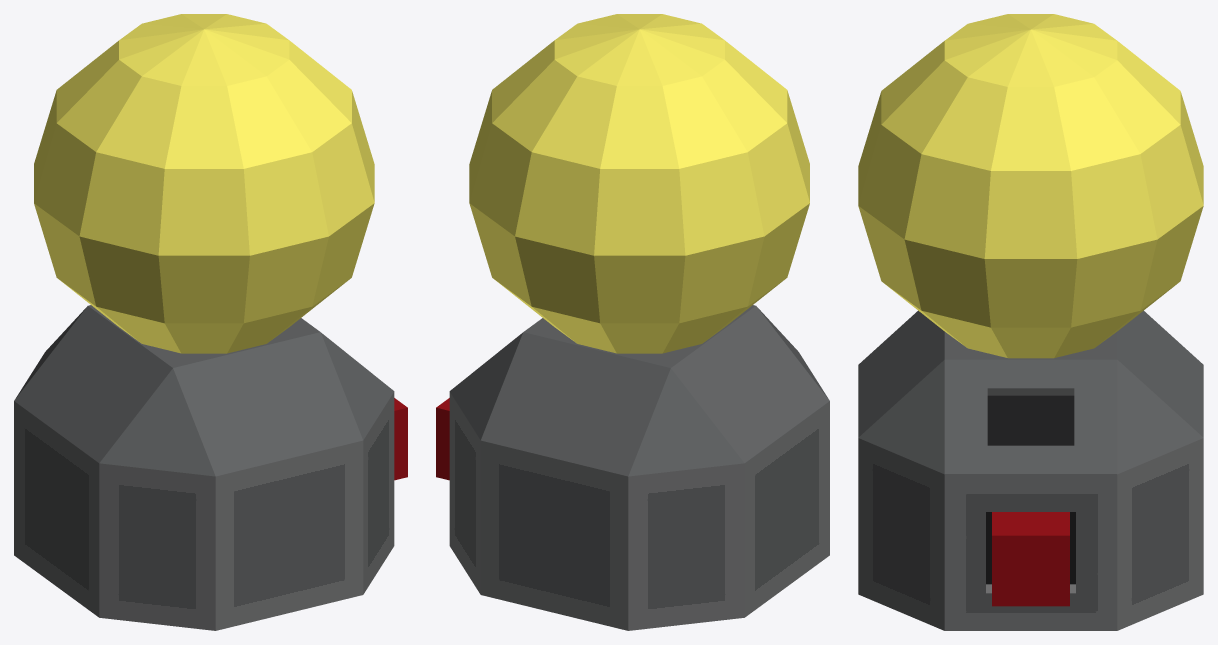
The model's file is Reactor.gltf.
3 renders of one model, left to right at view 1: azimuth 30°, elevation 25°; view 2: azimuth 150°, elevation 25°; view 3: azimuth 270°, elevation 25°, orthographic.
Parts seen in each view (by area): view 1: beveled_cuboid, cuboid; view 2: beveled_cuboid, cuboid; view 3: beveled_cuboid, cuboid.
Part boxes in pixels (x1,y1,x2,y2): beveled_cuboid: (14, 14, 394, 630); cuboid: (394, 398, 407, 480); beveled_cuboid: (449, 14, 829, 630); cuboid: (436, 398, 449, 480); beveled_cuboid: (858, 14, 1203, 630); cuboid: (992, 512, 1069, 606).
Bounding box in the file's own units: 0.5625 × 0.8437 × 0.5.
1 material, 1 textured.
